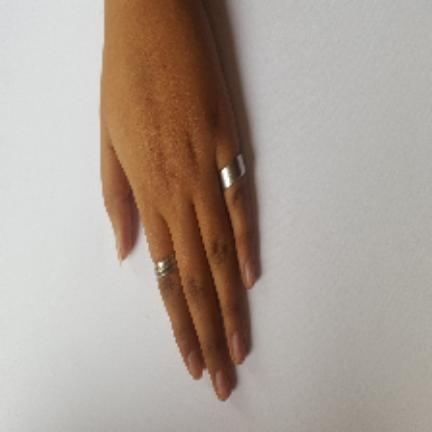Nail: (232, 331, 246, 365), (216, 370, 230, 401), (188, 352, 202, 379), (244, 262, 256, 289)
